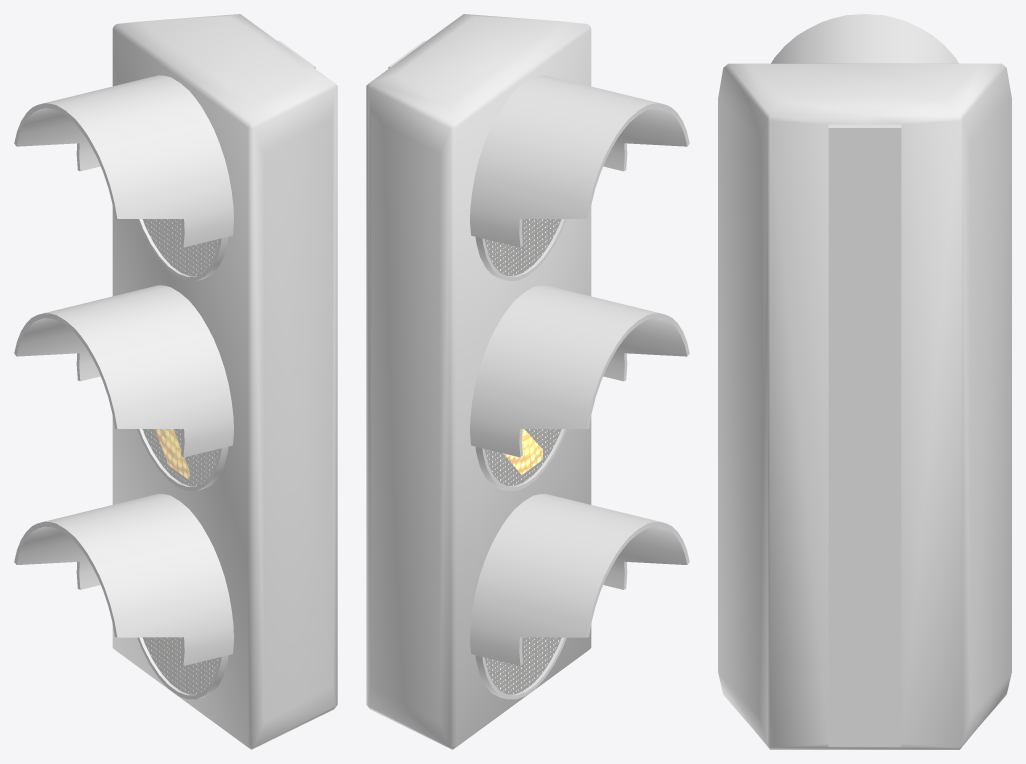
File: 竖排左转灯_YellowLight.glb
3 renders of one model, left to right at view 1: azimuth 30°, elevation 25°; view 2: azimuth 150°, elevation 25°; view 3: azimuth 270°, elevation 25°, orthographic.
Parts seen in each view (by area): view 1: 竖排左转灯_YellowLight; view 2: 竖排左转灯_YellowLight; view 3: 竖排左转灯_YellowLight.
Part boxes in pixels (x1,y1,x2,y2): 竖排左转灯_YellowLight: (14,14,337,749); 竖排左转灯_YellowLight: (366,14,689,749); 竖排左转灯_YellowLight: (718,14,1011,749).
Bounding box in the file's own units: 0.6001 × 1.58 × 0.65.
Materials: 3 (2 with a texture image).
